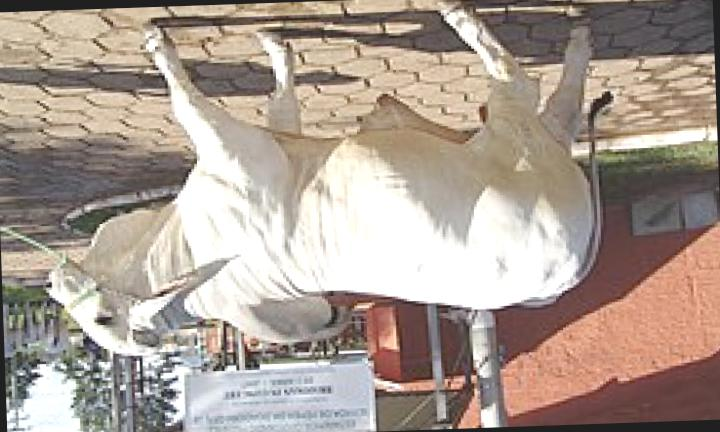Brahman: (49, 2, 601, 356)
